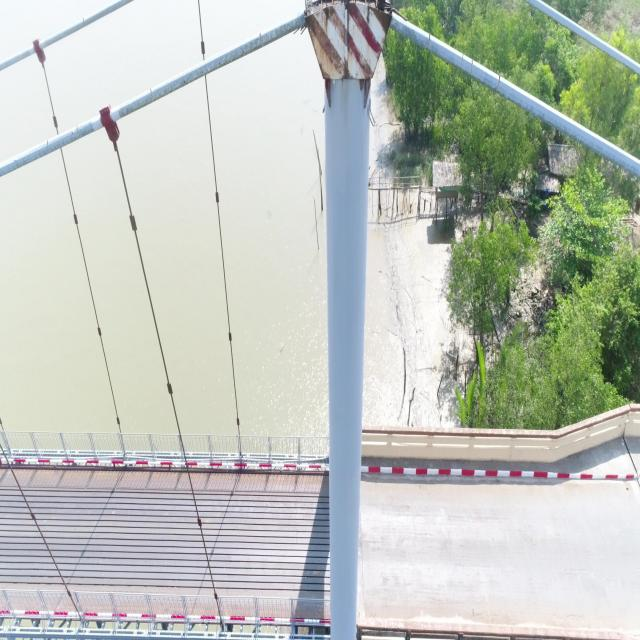crack: (496, 74, 501, 92), (427, 34, 431, 50), (460, 54, 464, 69), (260, 32, 264, 46), (150, 88, 154, 102), (76, 125, 80, 139), (46, 140, 50, 154), (470, 59, 473, 75), (82, 18, 84, 27)
